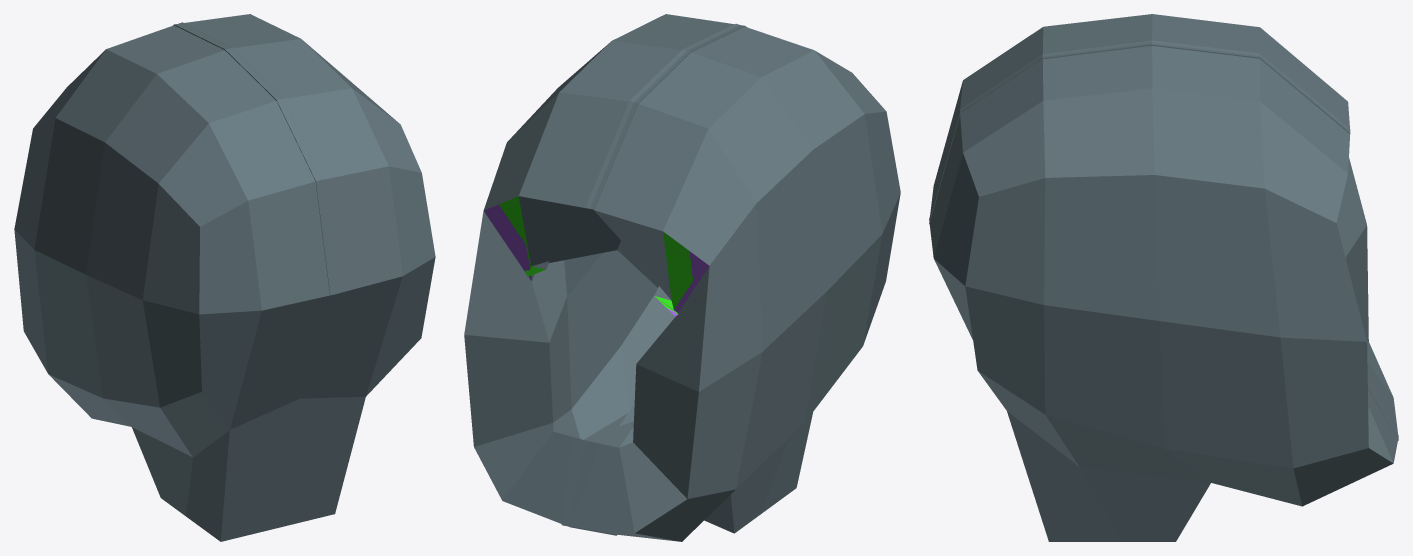
Rendered from Iron_Helmet.fbx.
3 views of the same model, side by side, from view 1: azimuth 30°, elevation 25°; view 2: azimuth 150°, elevation 25°; view 3: azimuth 270°, elevation 25° (orthographic). The views are drawn at different scales.
Parts seen in each view (by area): view 1: Helmet; view 2: Helmet; view 3: Helmet.
Part boxes in pixels (x1=…): Helmet: x1=14, y1=14, x2=435, y2=541; Helmet: x1=464, y1=14, x2=900, y2=541; Helmet: x1=929, y1=14, x2=1398, y2=541.
Bounding box in the file's own units: 0.3026 × 0.4172 × 0.4604.
1 material, 1 textured.
